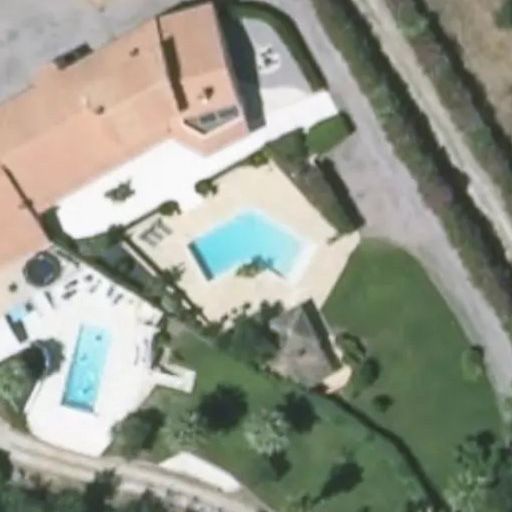pool: (193, 208, 308, 289), (66, 323, 109, 415)
